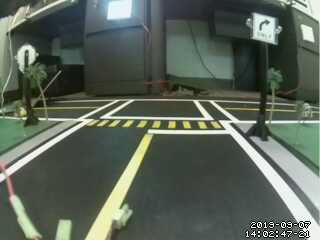Right_only_sign: (247, 10, 282, 48)
